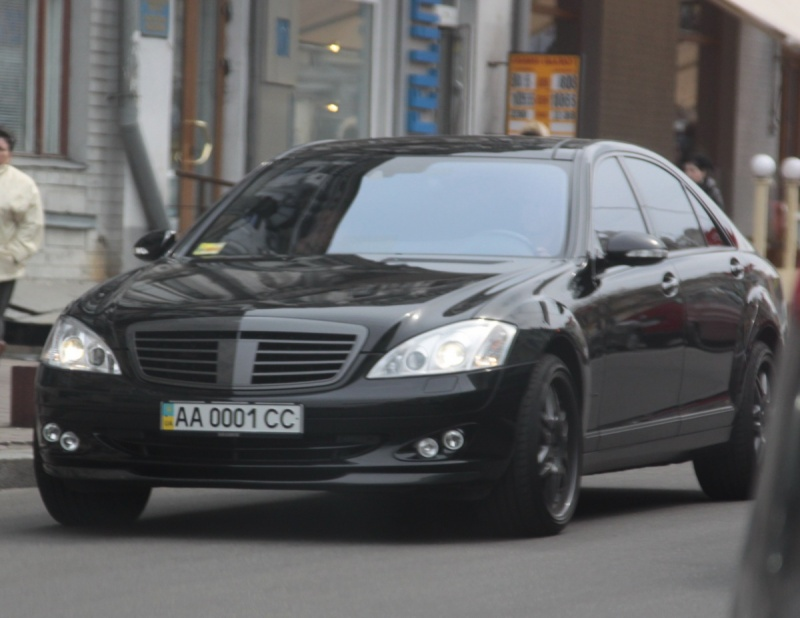car: (31, 132, 783, 535)
plate: (155, 399, 306, 435)
